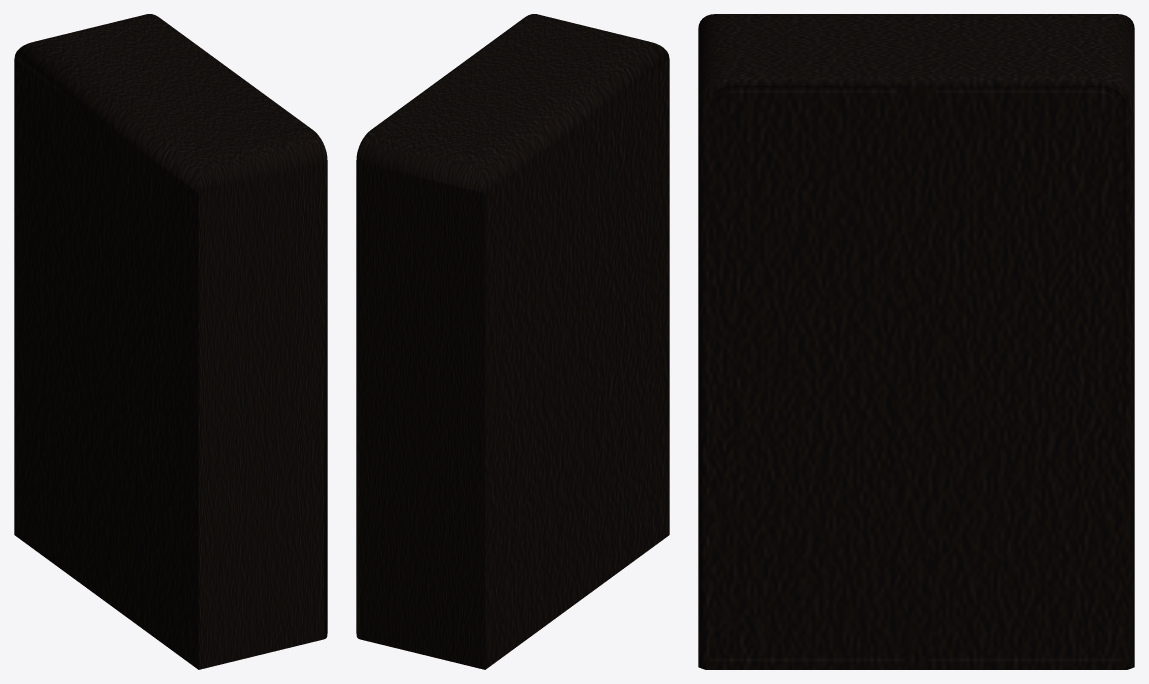
Rendered from wardrobe.fbx.
3 renders of one model, left to right at view 1: azimuth 30°, elevation 25°; view 2: azimuth 150°, elevation 25°; view 3: azimuth 270°, elevation 25°, orthographic. The views are drawn at different scales.
Visible parts, largest first — view 1: Cube; view 2: Cube; view 3: Cube.
Boxes of the visible parts, x1,y1,x2,y2 form: Cube: (14, 14, 327, 669); Cube: (356, 14, 669, 669); Cube: (698, 14, 1134, 669).
Size of the model in its own units: 98.24 by 357 by 239.
1 material, 1 textured.
